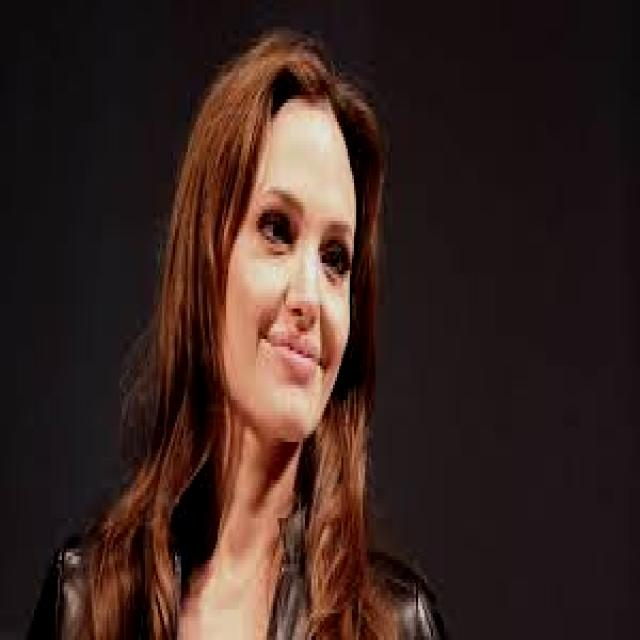normal_face: (201, 60, 366, 462)
